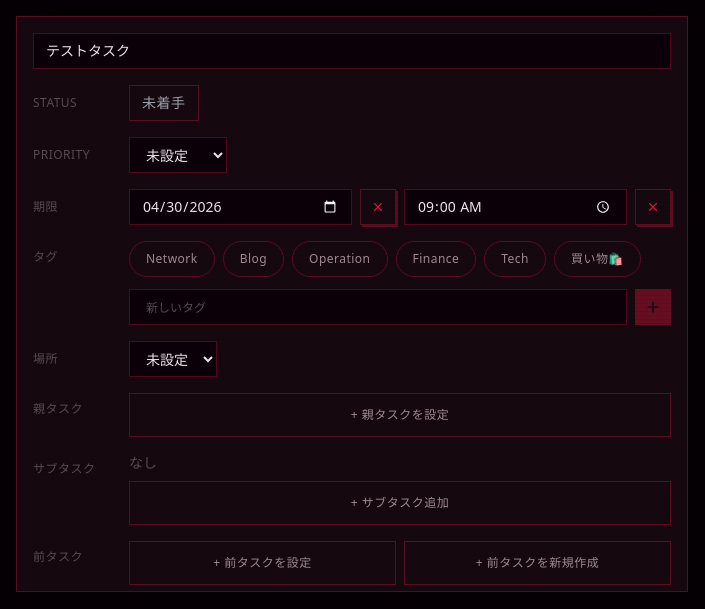
Scenario: TaskDetail フィールド変更 › 時刻クリアボタンで時刻だけ消えて日付は残る (モバイル native picker の代替)
Click the button named "時刻をクリア" at x=653, y=207, box [635, 189, 671, 225]
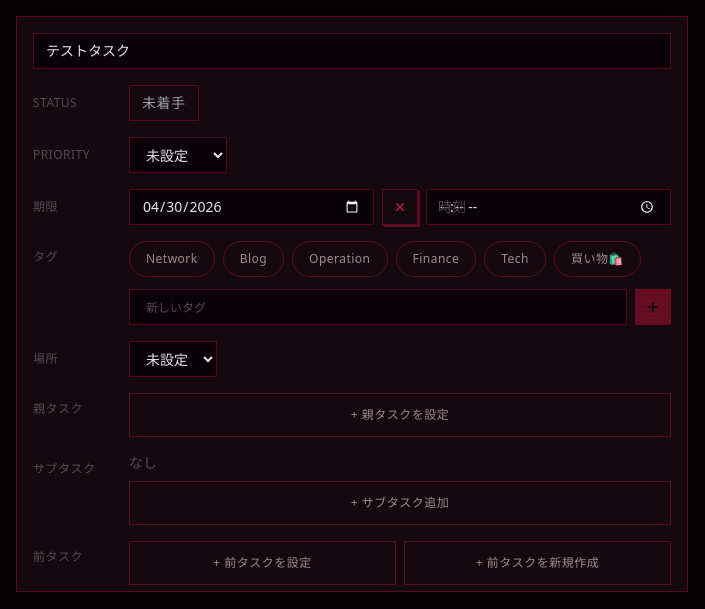
Result: the button "時刻をクリア" is gone
